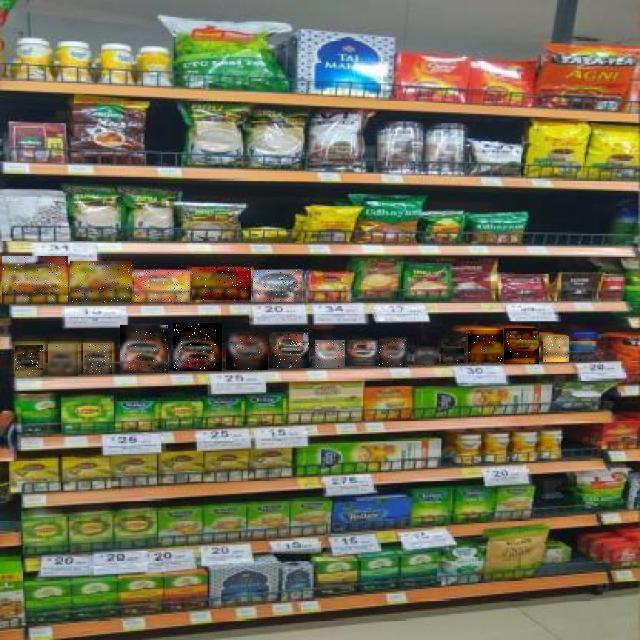Coffee: (3, 256, 69, 304), (70, 262, 132, 304), (173, 323, 222, 371), (120, 325, 168, 373), (192, 268, 251, 302), (135, 270, 191, 302), (253, 270, 302, 302), (226, 333, 268, 370), (269, 332, 309, 368), (504, 328, 539, 364), (468, 330, 503, 362), (48, 344, 78, 376), (83, 343, 112, 374), (15, 345, 43, 377), (380, 339, 410, 367), (315, 340, 345, 368), (347, 340, 378, 366), (543, 336, 569, 362), (415, 348, 439, 364), (441, 348, 464, 363)
